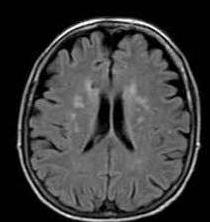Normal_Brain: (1, 1, 210, 207)
